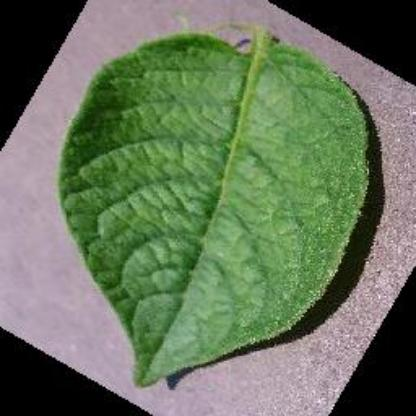Healthy-plant: (56, 15, 376, 392)
